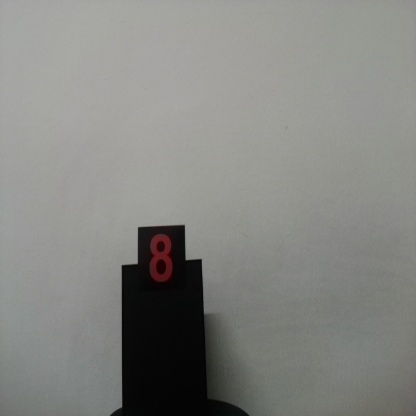id_8: (138, 227, 185, 295)
